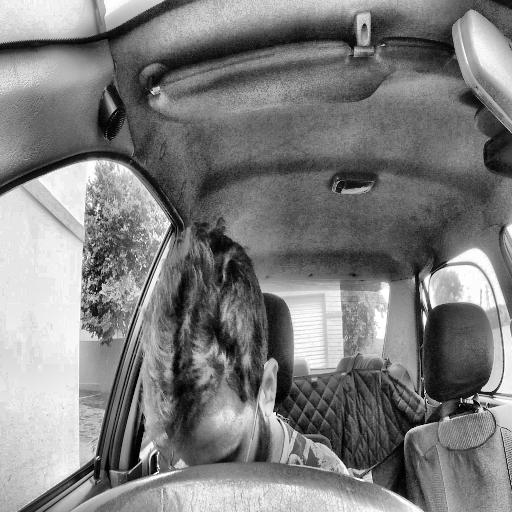drowsy: (141, 210, 280, 480)
